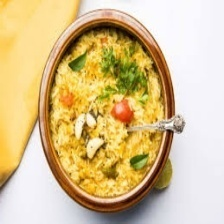sabzi: (49, 28, 166, 198)
